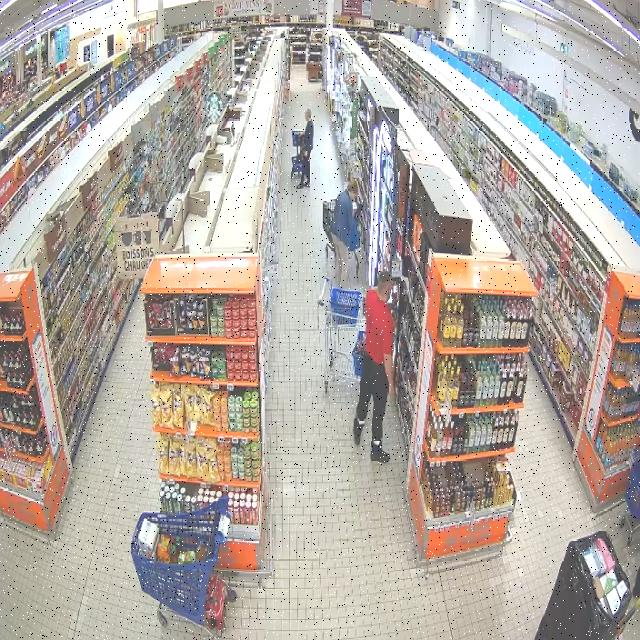hands: (389, 385, 396, 403), (305, 152, 308, 156)
person: (353, 272, 394, 463), (331, 179, 357, 287), (297, 108, 313, 188)
